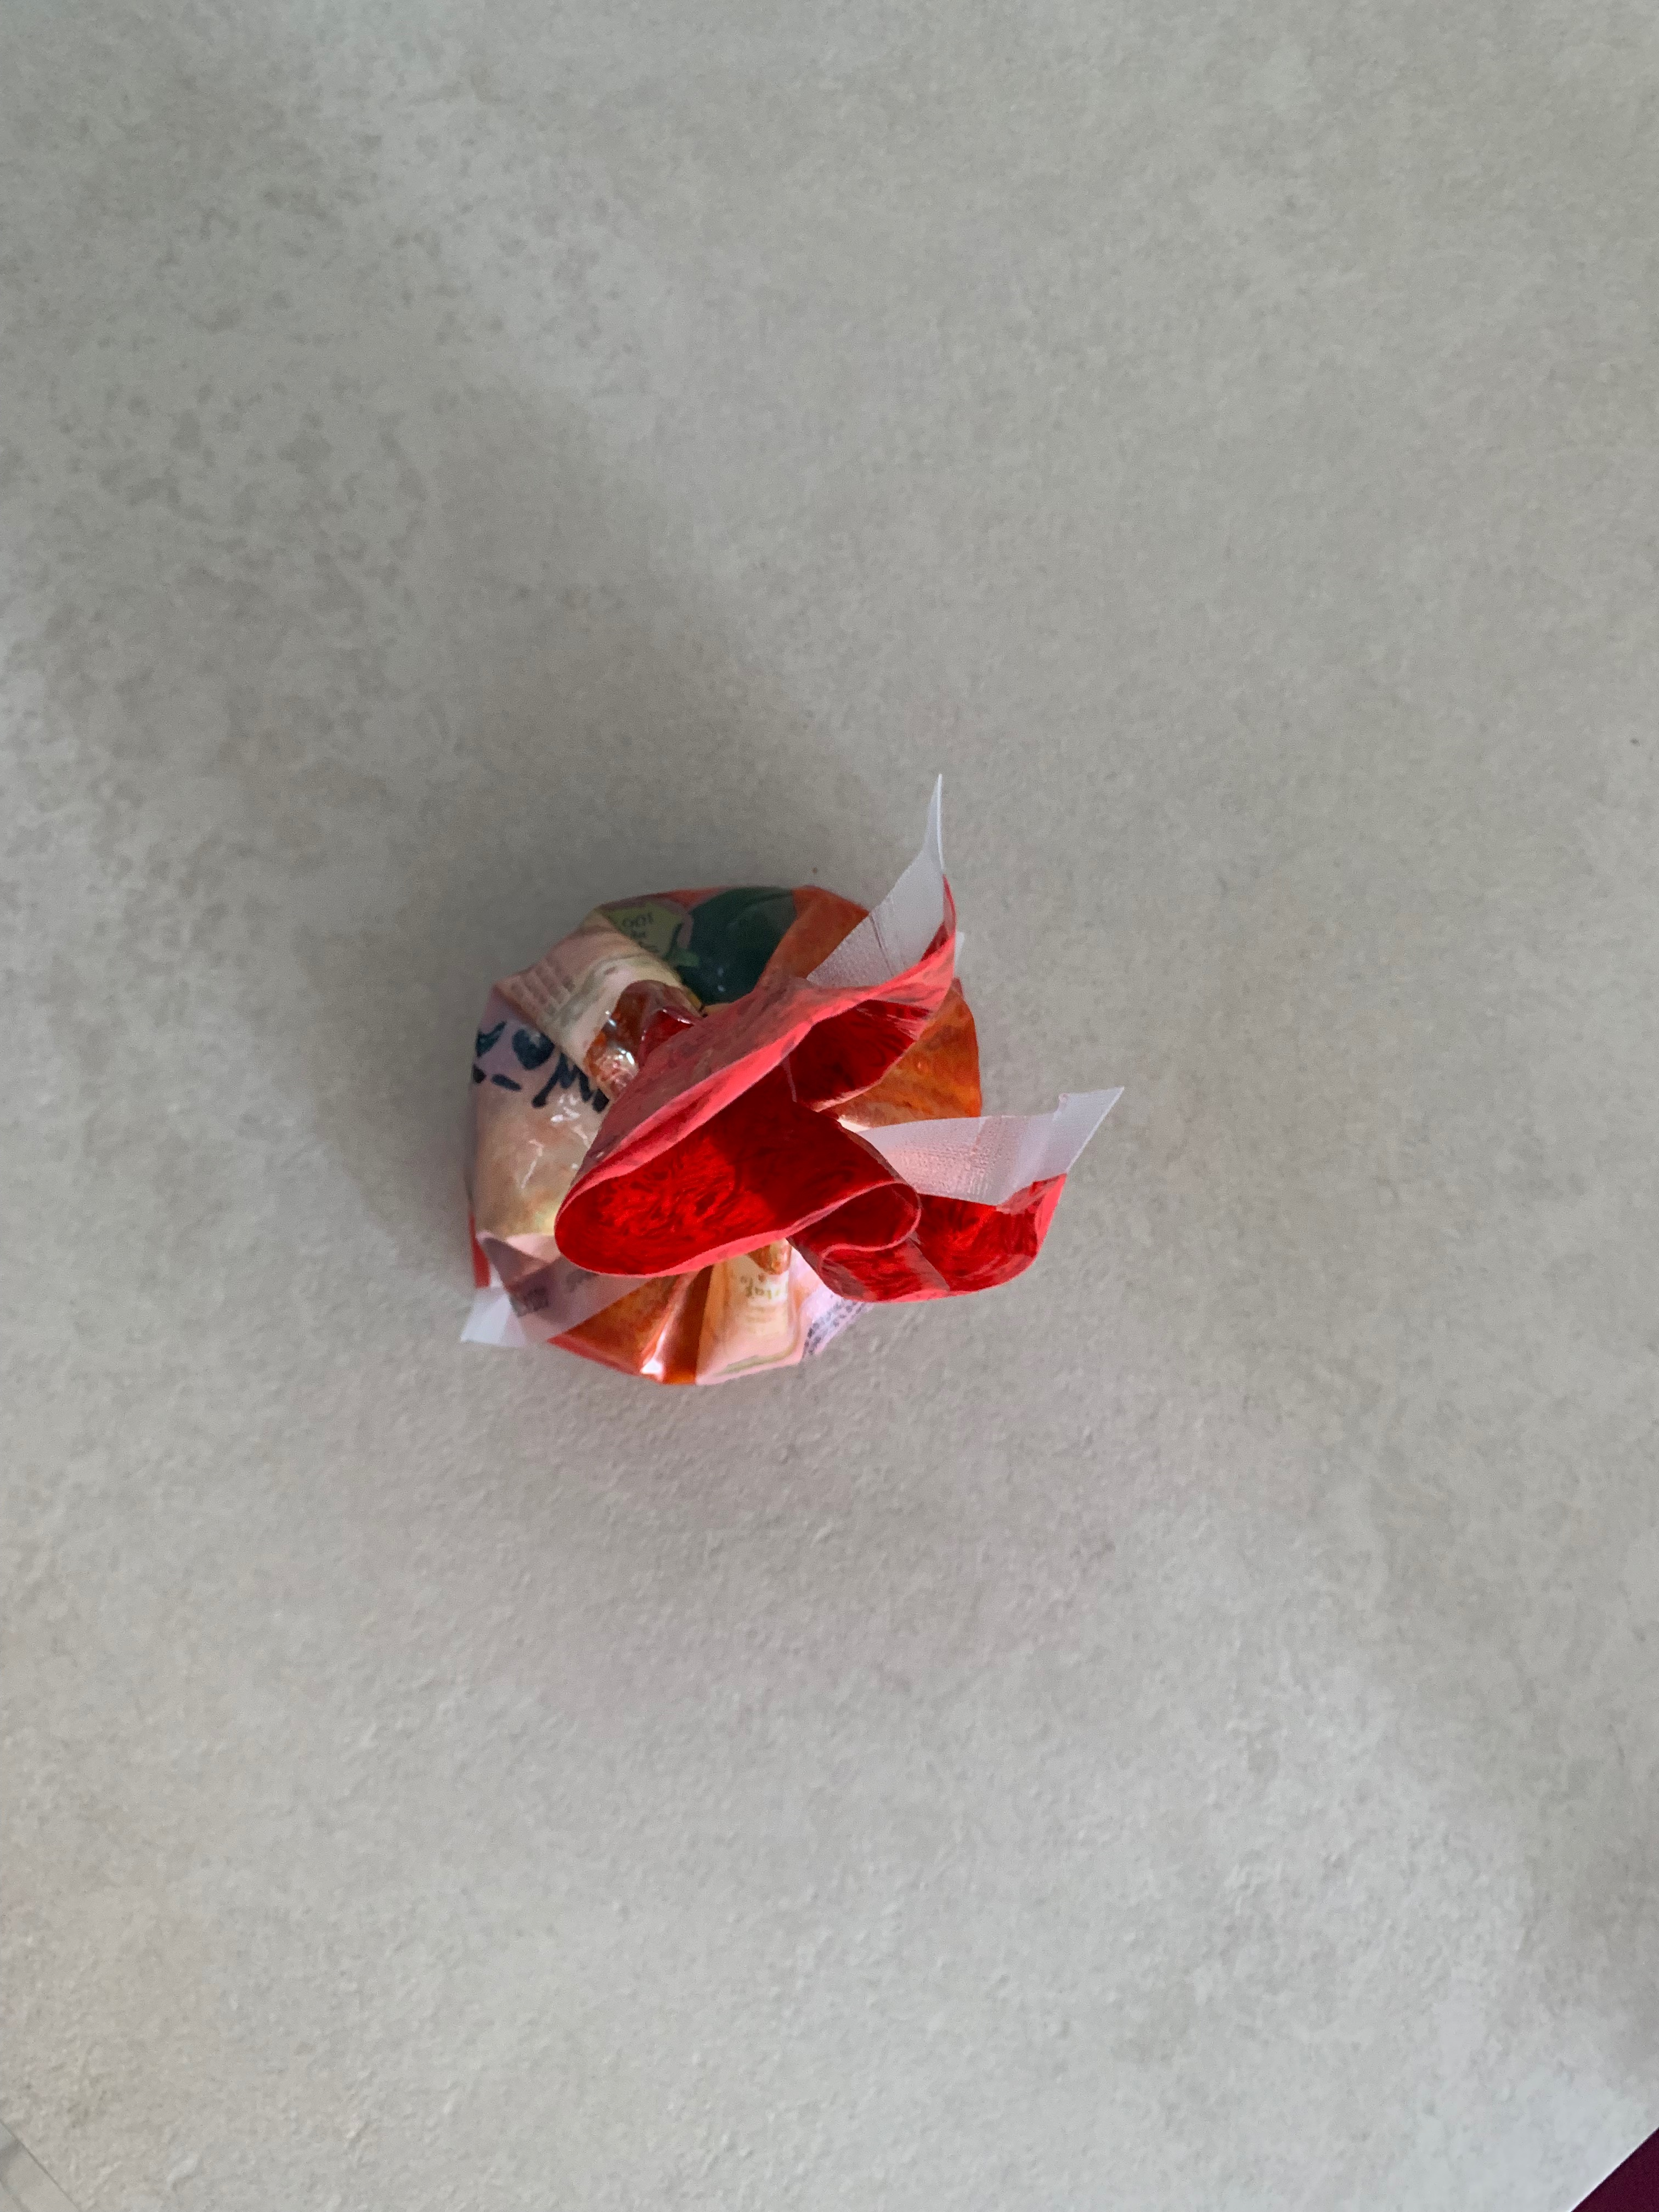kimchi: (457, 876, 1065, 1392)
